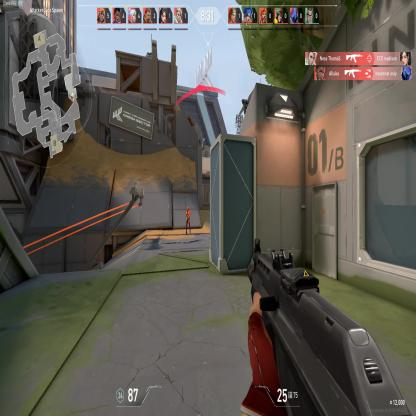enemy: (184, 204, 192, 236)
